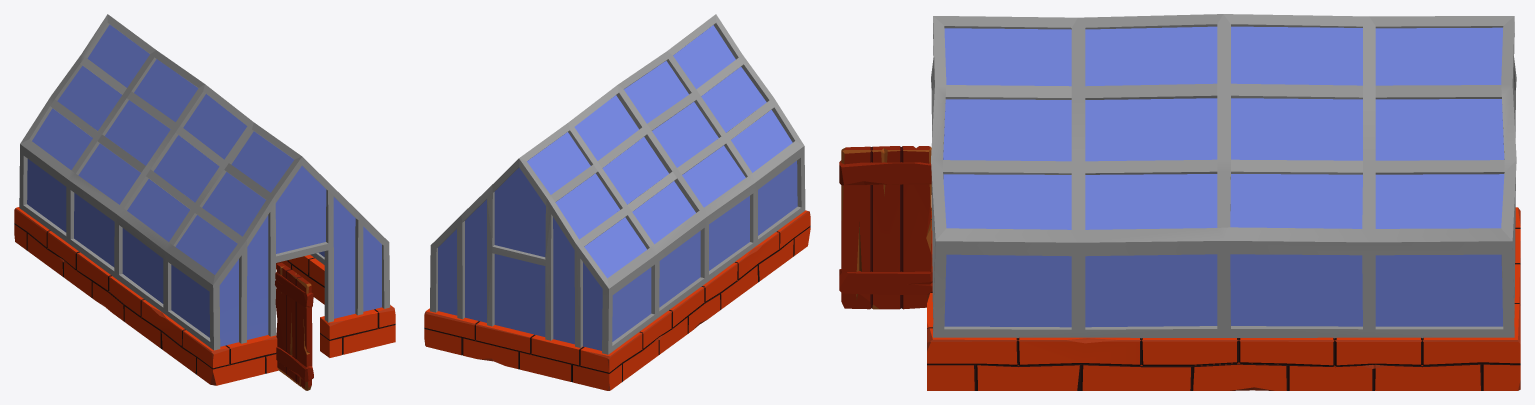
Rendered from GreenHouse.001.fbx.
The picture shows the model from 3 angles, left to right: view 1: azimuth 30°, elevation 25°; view 2: azimuth 150°, elevation 25°; view 3: azimuth 270°, elevation 25°; orthographic projection. The views are drawn at different scales.
Parts seen in each view (by area): view 1: GreenHouse_001; view 2: GreenHouse_001; view 3: GreenHouse_001.
Boxes of the visible parts, bbox=[...] form: GreenHouse_001: bbox=[14, 14, 395, 390]; GreenHouse_001: bbox=[424, 14, 810, 390]; GreenHouse_001: bbox=[839, 14, 1520, 390].
Size of the model in its own units: 125 by 136 by 271.
